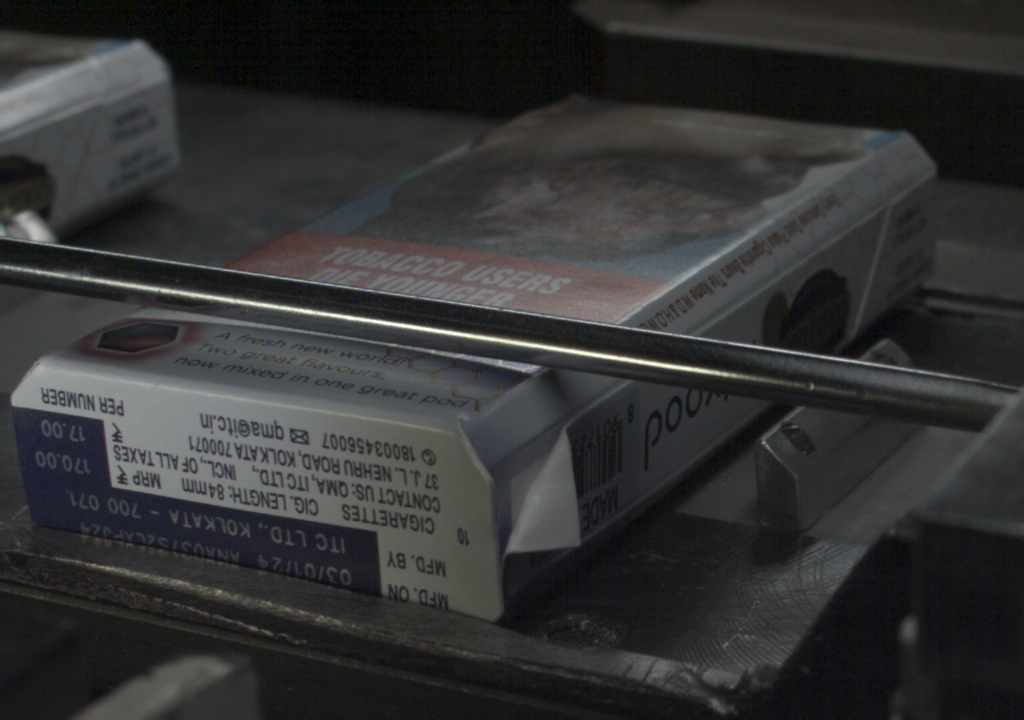g_bottom: (10, 364, 503, 626)
g_label: (21, 484, 377, 590)
g_lmiter: (700, 263, 801, 331), (801, 206, 881, 263)
g_miter: (883, 160, 937, 212)
ng_lmiter: (499, 416, 585, 550)
price: (18, 413, 104, 481)
